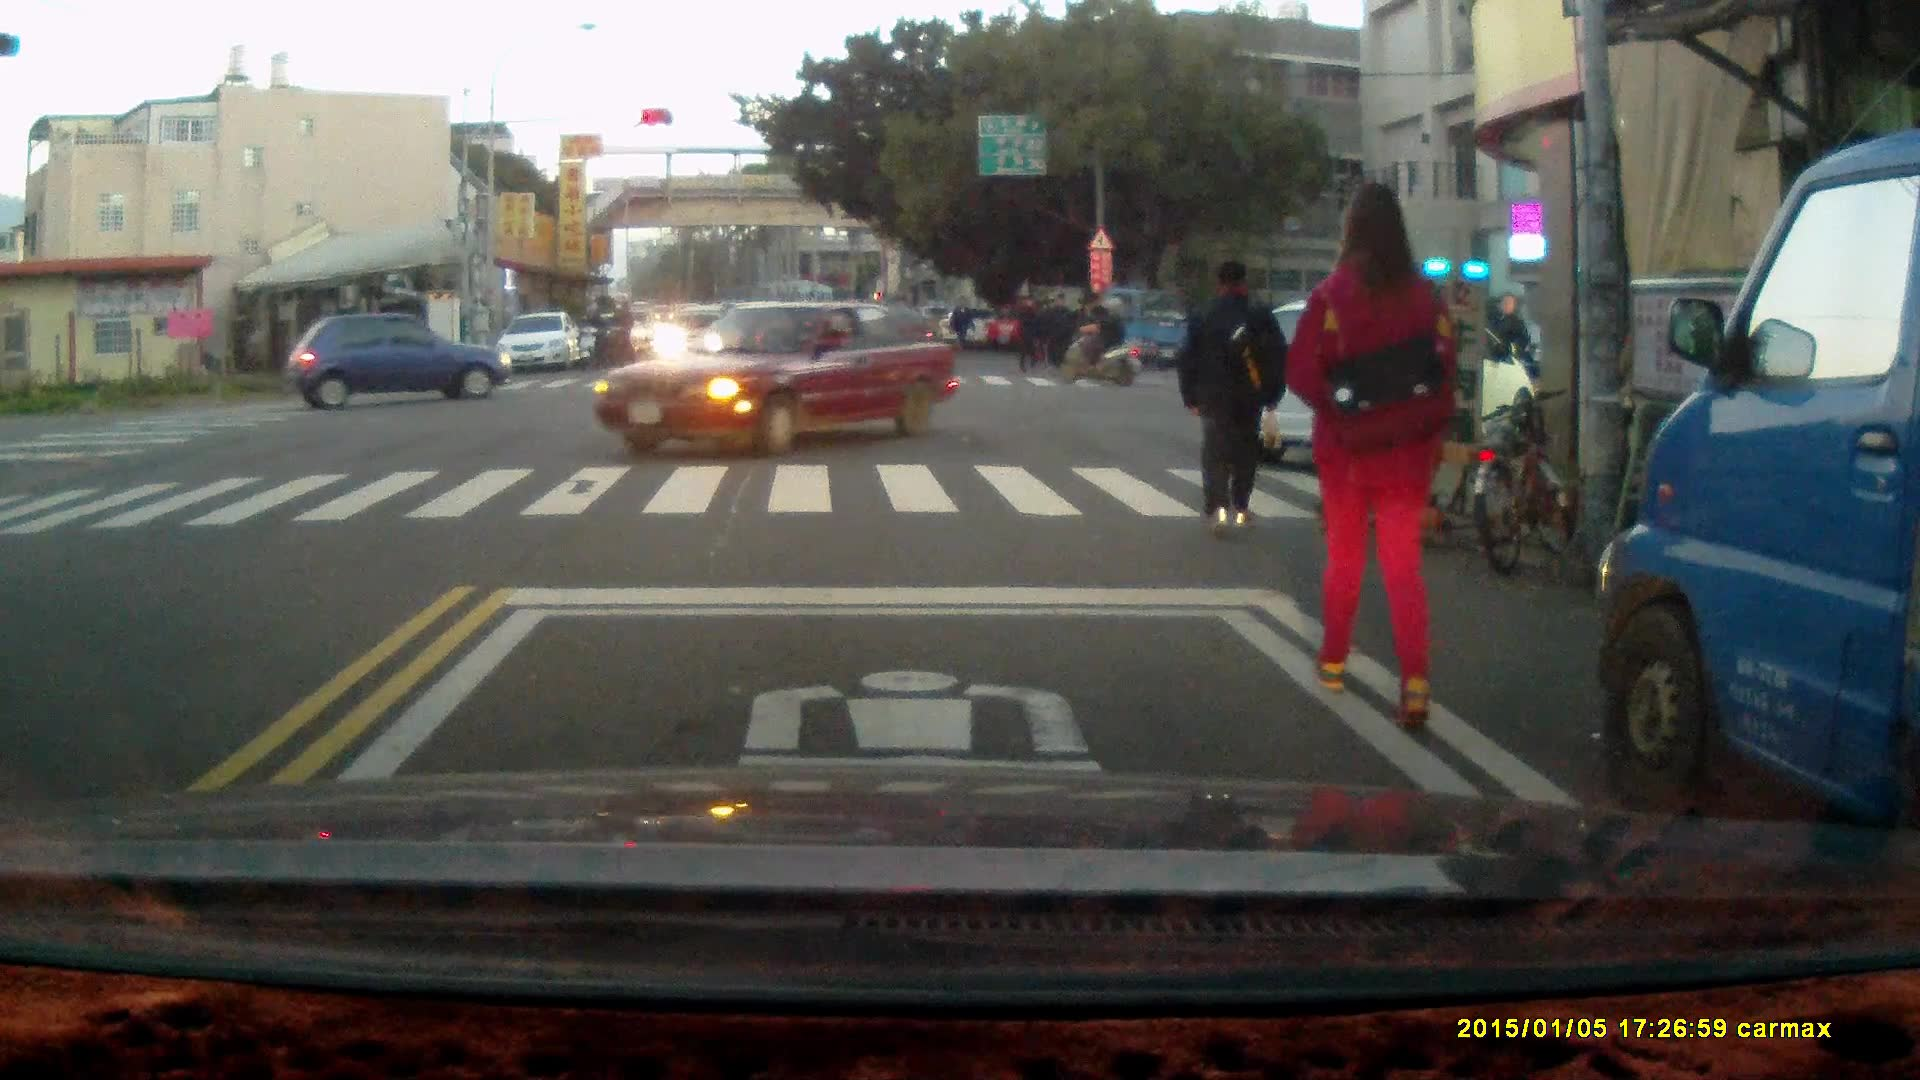pedestrian: (1288, 176, 1466, 732), (1171, 253, 1286, 536), (1485, 292, 1530, 411), (1039, 289, 1070, 371), (1017, 294, 1044, 373), (950, 293, 973, 362), (1072, 298, 1097, 364)
rider: (1059, 294, 1138, 386), (575, 302, 607, 369), (603, 302, 632, 362)
vehicle: (1598, 132, 1920, 863), (596, 303, 965, 456), (1233, 296, 1533, 459), (293, 316, 511, 408), (1002, 284, 1201, 367), (498, 313, 586, 377)
